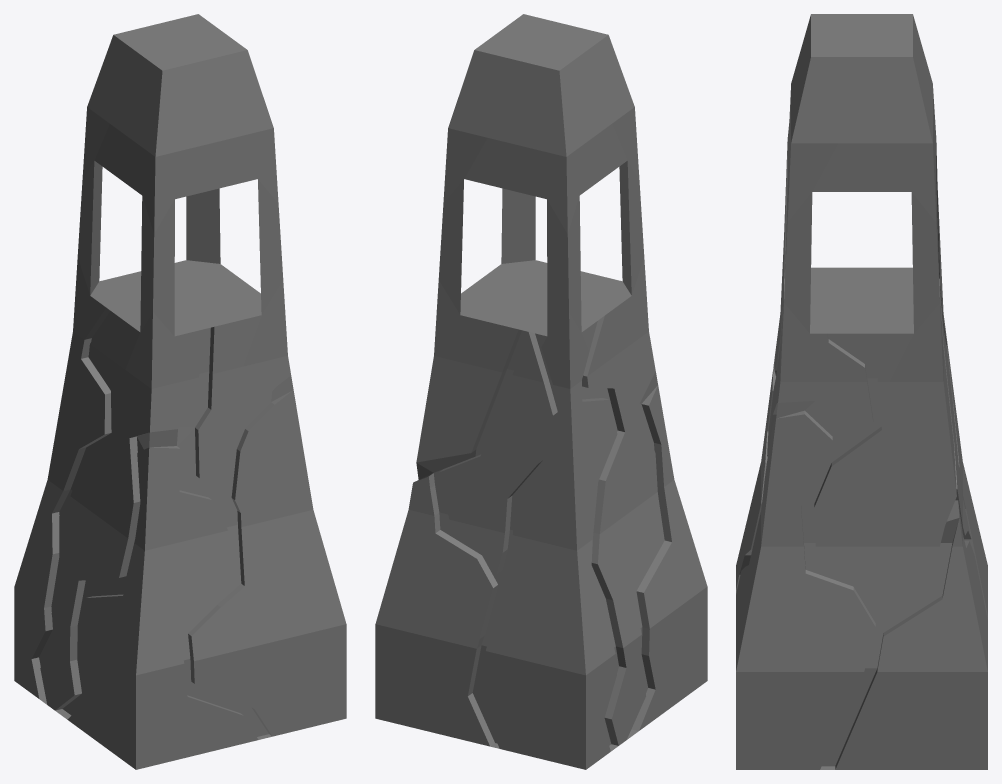
File: totem_used.obj
The picture shows the model from 3 angles, left to right: view 1: azimuth 30°, elevation 25°; view 2: azimuth 150°, elevation 25°; view 3: azimuth 270°, elevation 25°; orthographic projection. The views are drawn at different scales.
Parts seen in each view (by area): view 1: Cube.001; view 2: Cube.001; view 3: Cube.001.
Boxes of the visible parts, x1=… form: Cube.001: x1=14, y1=14, x2=346, y2=769; Cube.001: x1=375, y1=14, x2=707, y2=769; Cube.001: x1=736, y1=14, x2=987, y2=769.
Bounding box in the file's own units: 2 × 5.97 × 2.
Materials: 1 (1 with a texture image).
